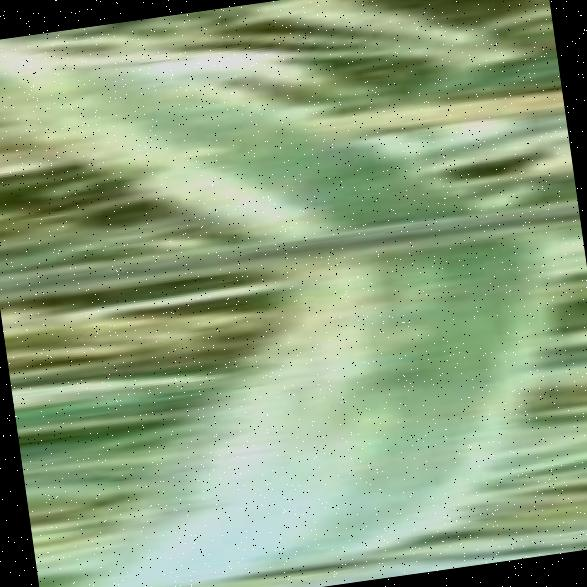Bacteria_Leaf_Blight: (146, 36, 564, 587)
